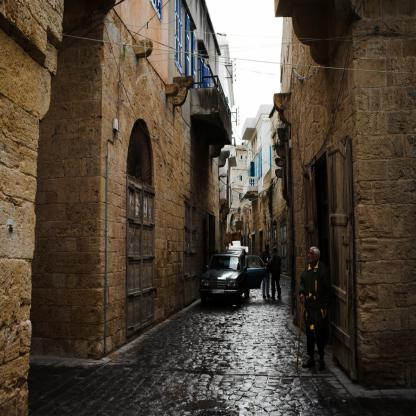Car: (199, 248, 267, 304)
